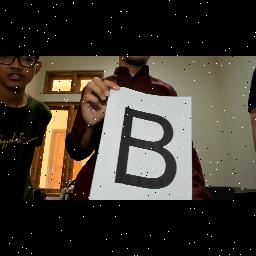b: (116, 103, 178, 197)
